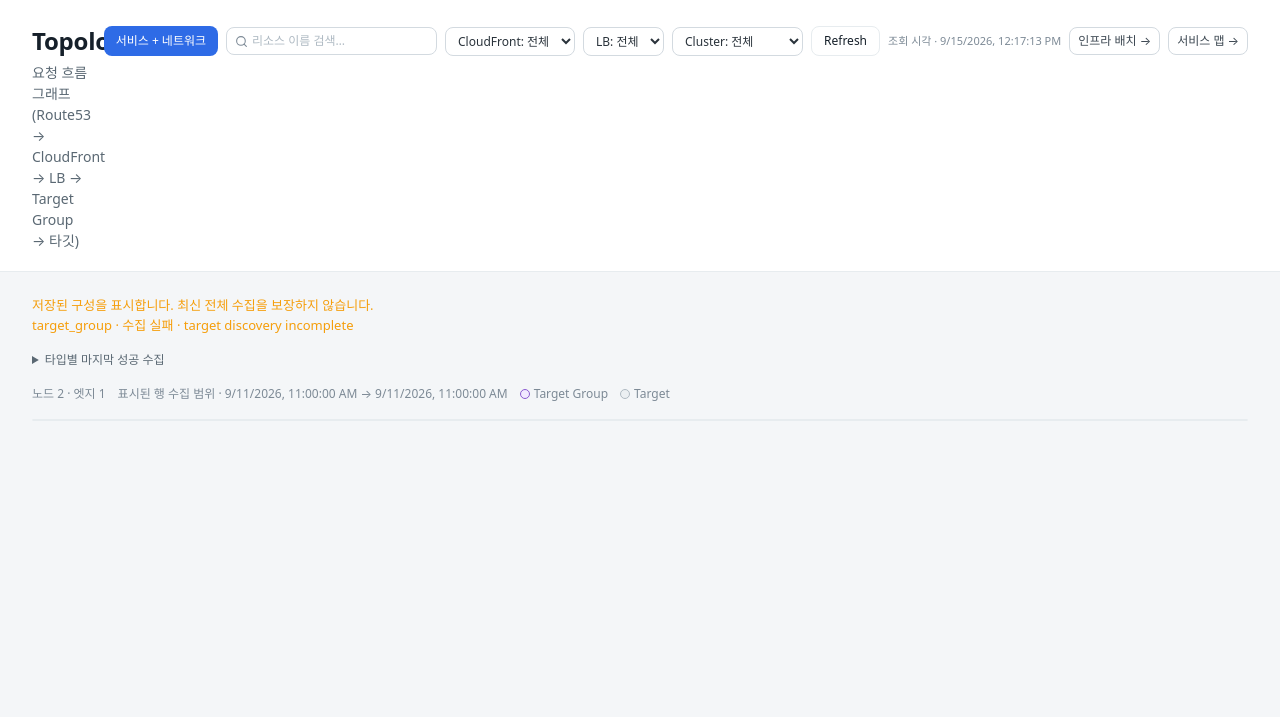
topology page URL and restored scope › keeps retained rows usable for an HTTP 200 failed run and preserves the older successful collection
The image size is (1280, 717).
Expected: the button "서비스 + 네트워크" is shown, [104,26,218,56]
Expected: the message shows "수집 실패", [122,316,174,334]
Type "tg-orders" into the field with placeholder "리소스 이름 검색…". click: (340, 41)
box: [252,32,428,50]
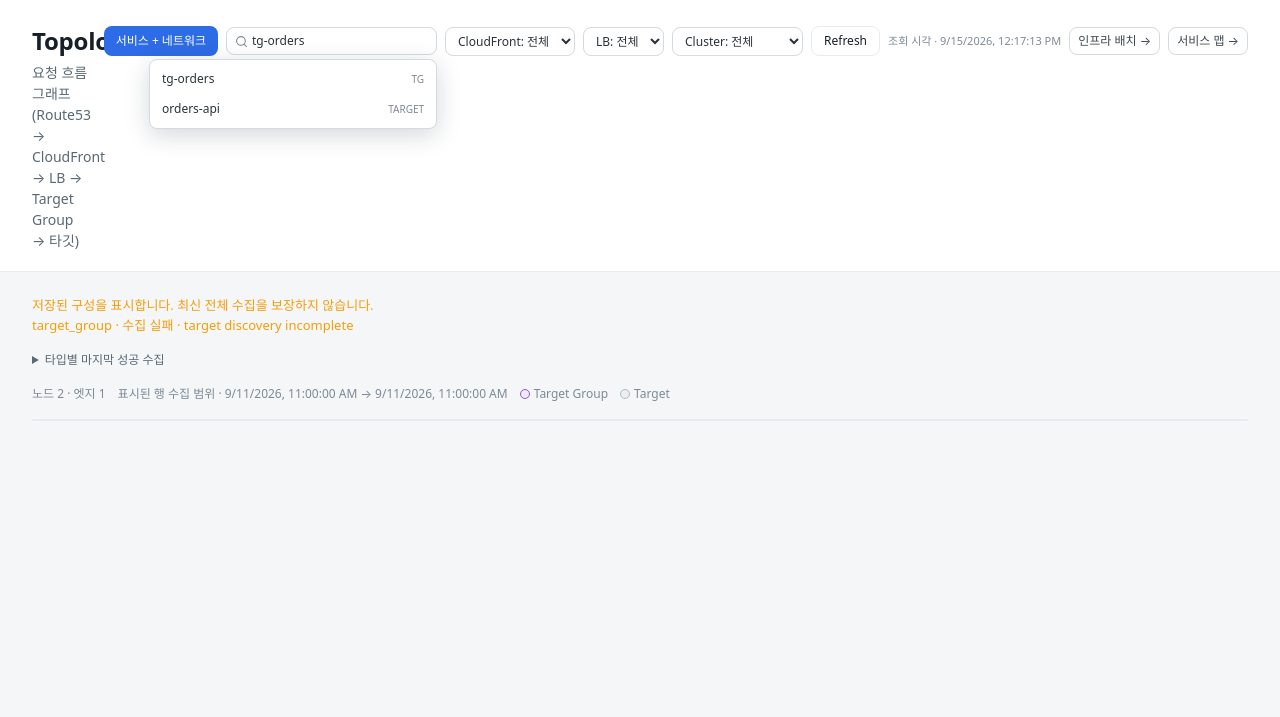
Result: the button "tg-orders tg" is shown at [150,64,436,94]
Click the button "서비스 + 네트워크". click: click(161, 41)
box: [104,26,218,56]
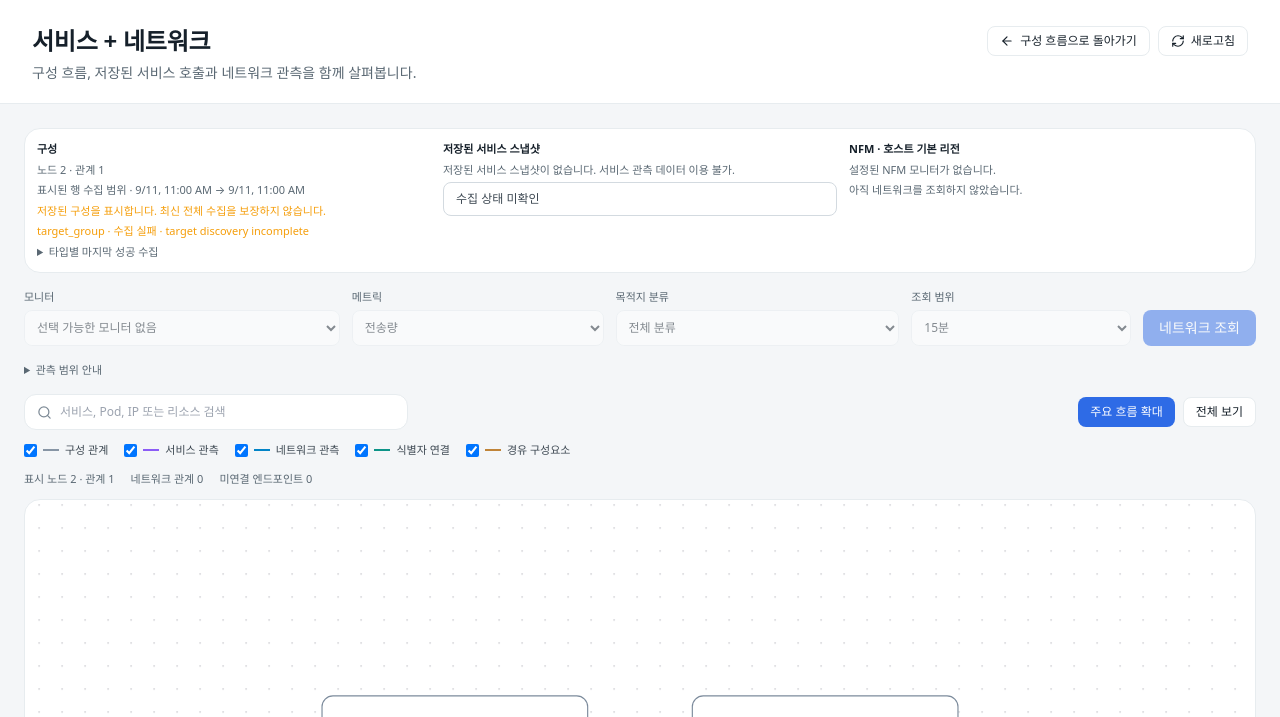
Expected: the message that starts with "저장된 구성을 표시합니다. 최신 전체 수집을 보장하지 않습니다." shows "수집 실패", [113,223,157,238]
Result: the element named "NFM 소스" is shown at [849,141,1022,197]
